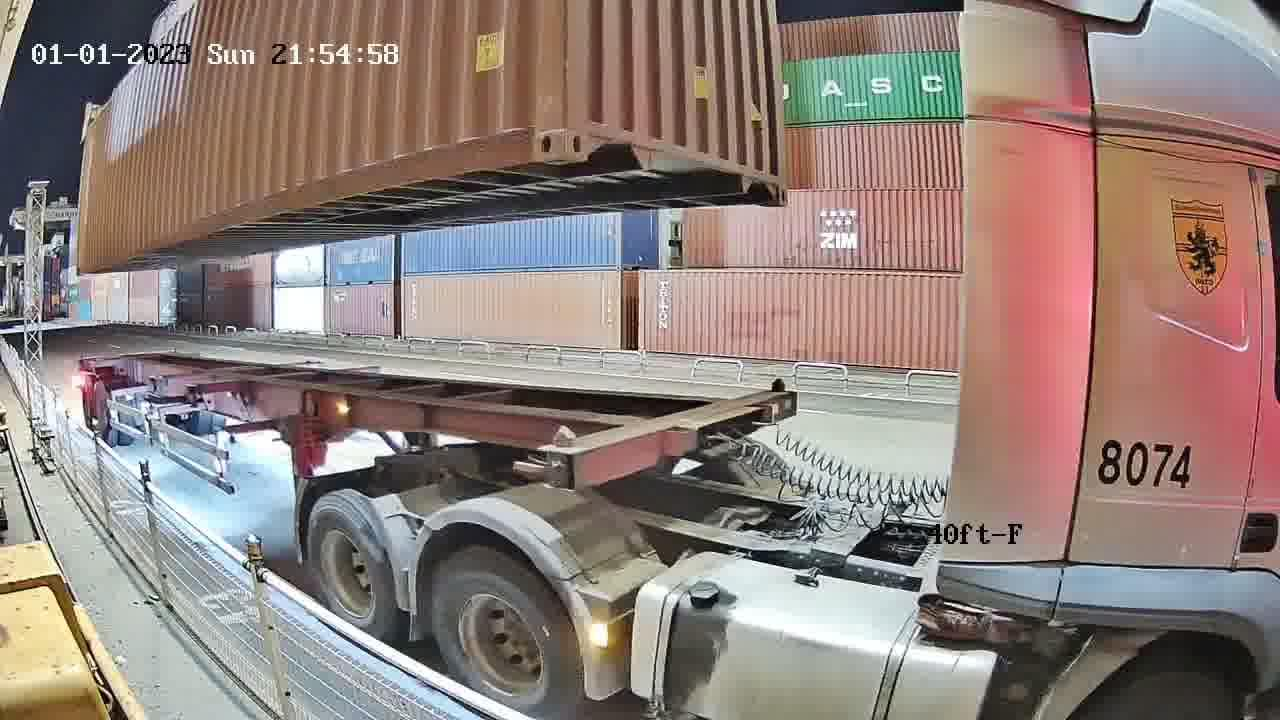Chassis: (544, 388, 799, 488)
Cone: (537, 423, 579, 493), (766, 375, 795, 417)
Hole_L: (564, 99, 617, 162)
Hole_R: (501, 100, 563, 164), (751, 146, 788, 203)
Tire: (433, 551, 583, 719), (307, 499, 397, 634)
